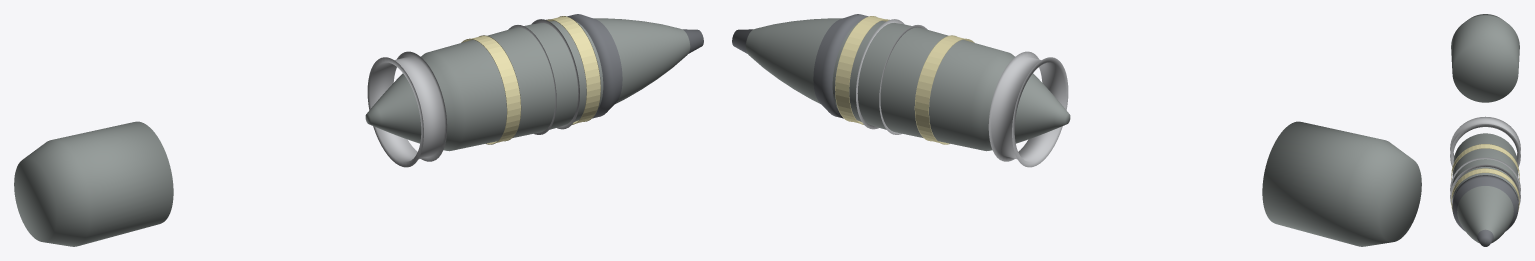
The model's file is FR_SLBM_M2_LOD0.fbx.
3 views of the same model, side by side, from view 1: azimuth 30°, elevation 25°; view 2: azimuth 150°, elevation 25°; view 3: azimuth 270°, elevation 25° (orthographic). The views are drawn at different scales.
Visible parts, largest first — view 1: WPN_FR_SLBM_M2_LOD0_Body, WPN_FR_SLBM_M2_LOD0_Tail, WPN_FR_SLBM_M2_LOD0_Detail, WPN_FR_SLBM_M2_LOD0_Marking, WPN_FR_SLBM_M2_LOD0_Nose; view 2: WPN_FR_SLBM_M2_LOD0_Body, WPN_FR_SLBM_M2_LOD0_Tail, WPN_FR_SLBM_M2_LOD0_Detail, WPN_FR_SLBM_M2_LOD0_Marking, WPN_FR_SLBM_M2_LOD0_Nose; view 3: WPN_FR_SLBM_M2_LOD0_Tail, WPN_FR_SLBM_M2_LOD0_Body, WPN_FR_SLBM_M2_LOD0_Detail, WPN_FR_SLBM_M2_LOD0_Nose, WPN_FR_SLBM_M2_LOD0_Marking.
Part boxes in pixels (box(x1,y1,x2,y2)): WPN_FR_SLBM_M2_LOD0_Body: box(365, 18, 690, 151); WPN_FR_SLBM_M2_LOD0_Tail: box(14, 121, 173, 246); WPN_FR_SLBM_M2_LOD0_Detail: box(367, 19, 579, 167); WPN_FR_SLBM_M2_LOD0_Marking: box(461, 16, 600, 144); WPN_FR_SLBM_M2_LOD0_Nose: box(567, 14, 703, 118); WPN_FR_SLBM_M2_LOD0_Body: box(745, 18, 1070, 151); WPN_FR_SLBM_M2_LOD0_Tail: box(1262, 121, 1421, 246); WPN_FR_SLBM_M2_LOD0_Detail: box(856, 19, 1068, 167); WPN_FR_SLBM_M2_LOD0_Marking: box(835, 16, 974, 144); WPN_FR_SLBM_M2_LOD0_Nose: box(732, 14, 868, 118); WPN_FR_SLBM_M2_LOD0_Tail: box(1451, 14, 1519, 102); WPN_FR_SLBM_M2_LOD0_Body: box(1452, 133, 1518, 243); WPN_FR_SLBM_M2_LOD0_Detail: box(1450, 116, 1520, 205); WPN_FR_SLBM_M2_LOD0_Nose: box(1452, 175, 1518, 246); WPN_FR_SLBM_M2_LOD0_Marking: box(1451, 144, 1519, 210).
Size of the model in its own units: 10.7 by 1.58 by 1.58.
